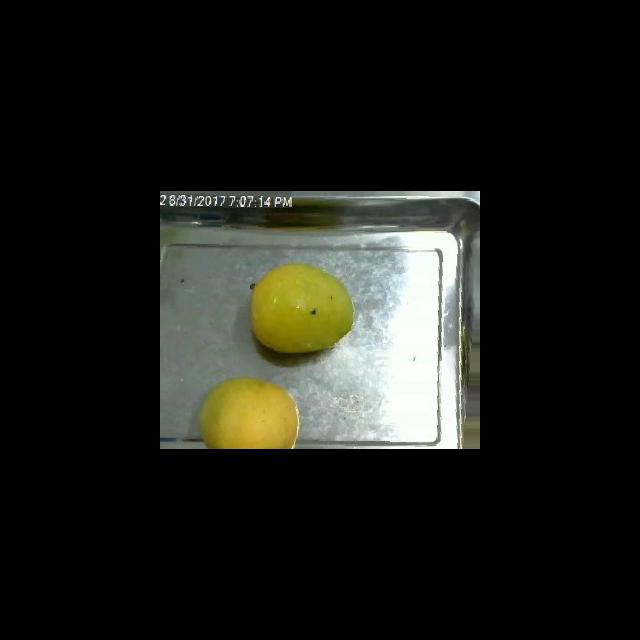Mango: (249, 262, 354, 353), (198, 376, 299, 448)
